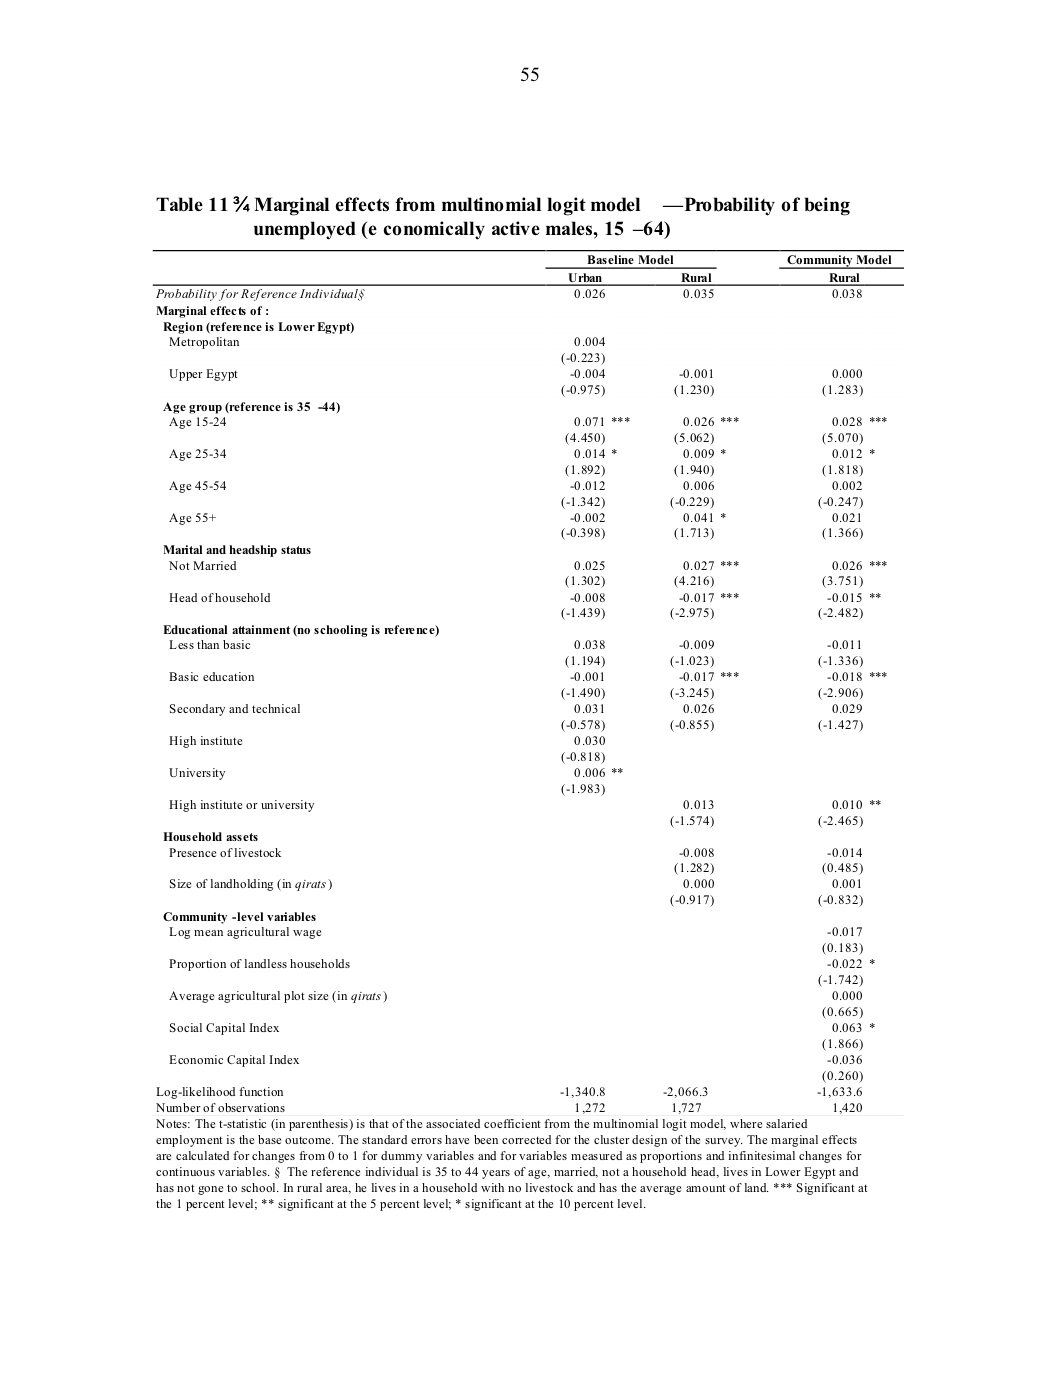Table: (152, 250, 903, 1114)
